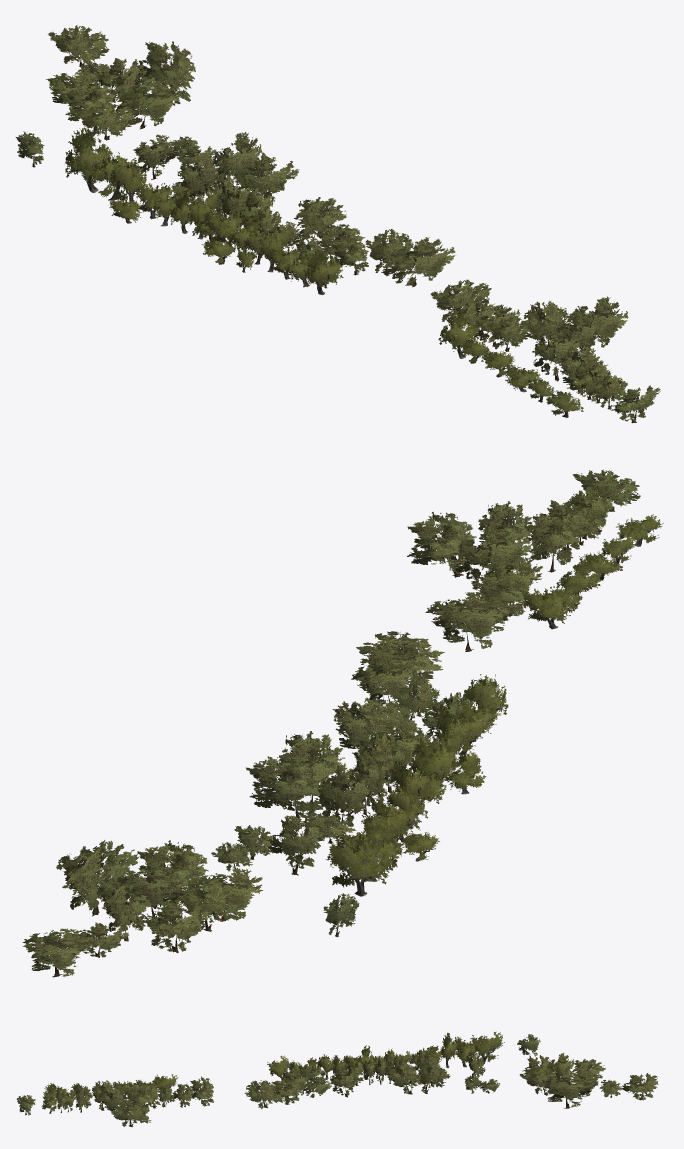
3 renders of one model, top to bottom at view 1: azimuth 30°, elevation 25°; view 2: azimuth 150°, elevation 25°; view 3: azimuth 270°, elevation 25°, orthographic. The views are drawn at different scales.
Visible parts, largest first — view 1: object 1, island_tree_01 Esplanade Drive bark; view 2: object 1, jacaranda_tree Esplanade Drive bark, island_tree_01 Esplanade Drive bark; view 3: object 1, jacaranda_tree Esplanade Drive bark, island_tree_01 Esplanade Drive bark.
Part boxes in pixels (bbox=[...]): object 1: bbox=[16, 25, 660, 421]; island_tree_01 Esplanade Drive bark: bbox=[74, 162, 575, 417]; object 1: bbox=[22, 469, 663, 976]; jacaranda_tree Esplanade Drive bark: bbox=[52, 497, 614, 977]; island_tree_01 Esplanade Drive bark: bbox=[339, 530, 650, 896]; object 1: bbox=[16, 1031, 658, 1126]; jacaranda_tree Esplanade Drive bark: bbox=[25, 1054, 643, 1126]; island_tree_01 Esplanade Drive bark: bbox=[121, 1049, 494, 1098].
Size of the model in its own units: 90.29 by 17.23 by 286.
Materials: 3 (3 with a texture image).
